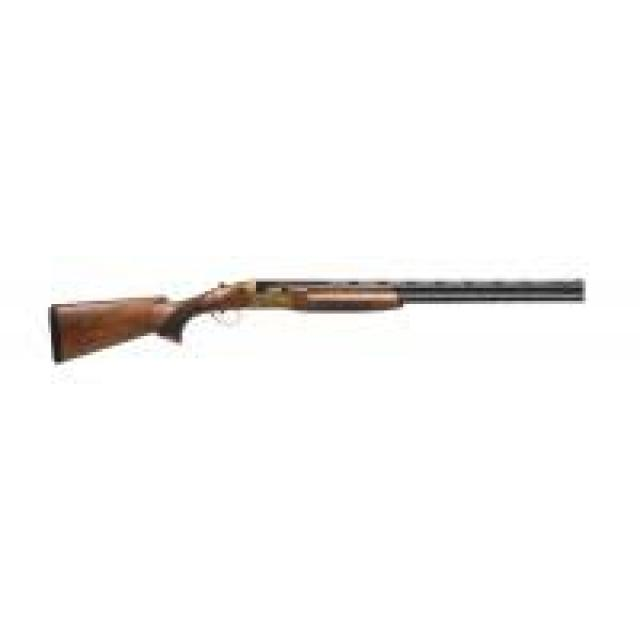rifle: (42, 271, 595, 370)
